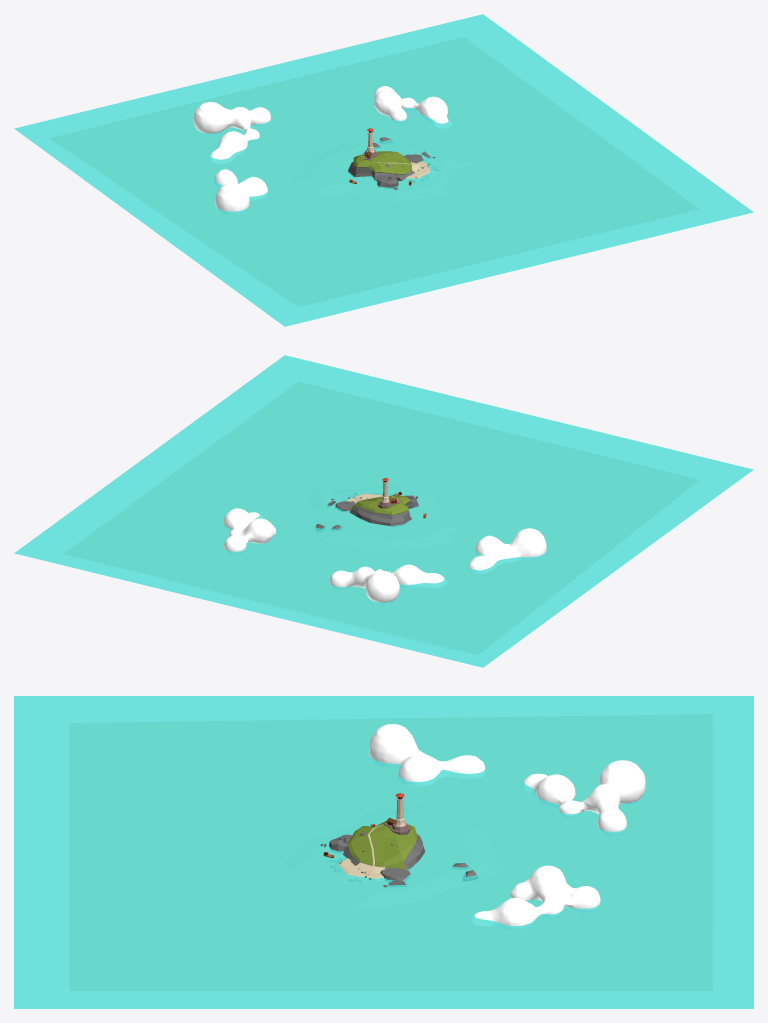
3 views of the same model, one above another, from view 1: azimuth 30°, elevation 25°; view 2: azimuth 150°, elevation 25°; view 3: azimuth 270°, elevation 25° (orthographic). The views are drawn at different scales.
Parts seen in each view (by area): view 1: Plane_1, Cube.007_43, Mball.003_68, Cube.003_4, Cube_0; view 2: Plane_1, Cube.007_43, Mball.003_68, Cube_0, Cube.003_4; view 3: Plane_1, Cube.007_43, Mball.003_68, Cube.003_4, Cube_0, Cube.004_7.
Part boxes in pixels (left/top/right/bottom): Plane_1: left=14, top=14, right=753, bottom=326; Cube.007_43: left=50, top=37, right=697, bottom=306; Mball.003_68: left=193, top=86, right=451, bottom=213; Cube.003_4: left=353, top=151, right=411, bottom=174; Cube_0: left=348, top=161, right=419, bottom=180; Plane_1: left=14, top=355, right=753, bottom=667; Cube.007_43: left=64, top=382, right=698, bottom=654; Mball.003_68: left=223, top=508, right=546, bottom=603; Cube_0: left=349, top=495, right=413, bottom=526; Cube.003_4: left=351, top=495, right=410, bottom=515; Plane_1: left=14, top=696, right=753, bottom=1008; Cube.007_43: left=70, top=714, right=711, bottom=990; Mball.003_68: left=369, top=724, right=645, bottom=929; Cube.003_4: left=347, top=820, right=417, bottom=868; Cube_0: left=343, top=824, right=425, bottom=873; Cube.004_7: left=335, top=858, right=383, bottom=881.
Bounding box in the file's own units: 24 × 4.48 × 24.
